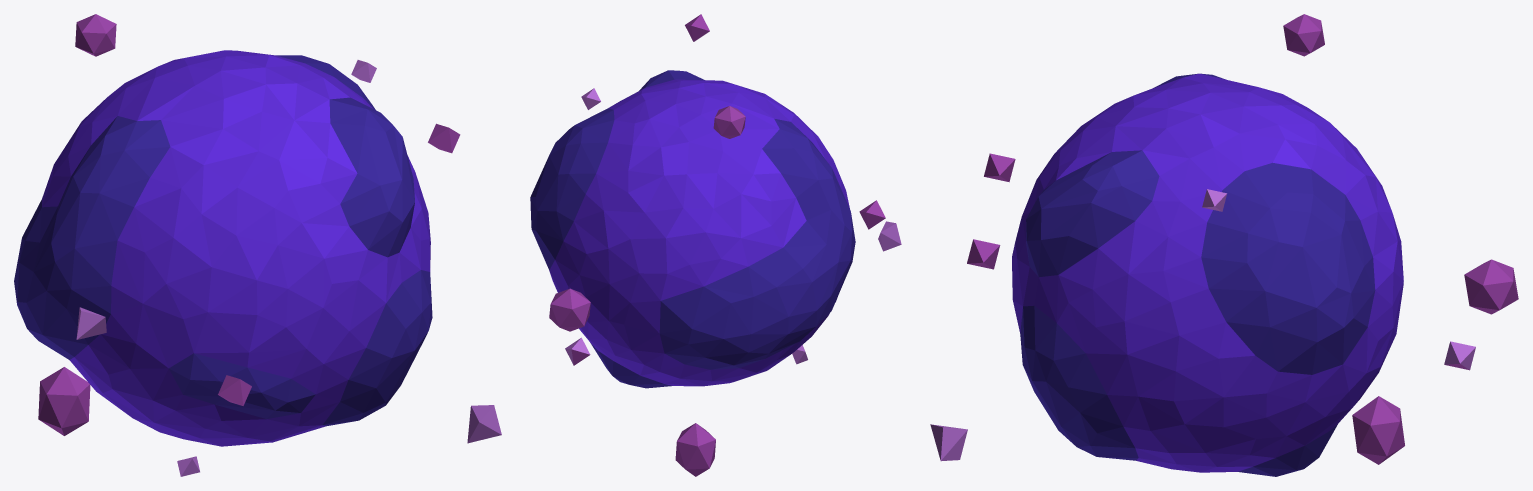
The model's file is planet_9.fbx.
The picture shows the model from 3 angles, left to right: view 1: azimuth 30°, elevation 25°; view 2: azimuth 150°, elevation 25°; view 3: azimuth 270°, elevation 25°; orthographic projection. The views are drawn at different scales.
Parts seen in each view (by area): view 1: planet_9; view 2: planet_9; view 3: planet_9.
Part boxes in pixels (bbox=[...]): planet_9: bbox=[14, 14, 501, 476]; planet_9: bbox=[530, 14, 901, 476]; planet_9: bbox=[930, 14, 1518, 476].
Bounding box in the file's own units: 882 × 654 × 742.
